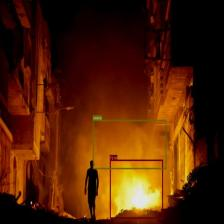fire: (110, 160, 163, 218)
smoke: (93, 119, 166, 169)
